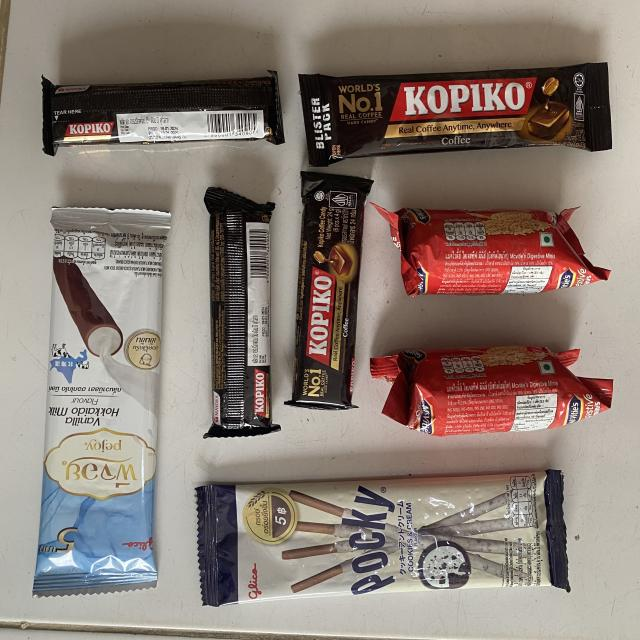plastik: (32, 208, 171, 595), (196, 470, 569, 605), (299, 62, 611, 166), (371, 346, 612, 436), (374, 205, 610, 295), (285, 171, 372, 410), (42, 71, 284, 155), (204, 188, 280, 438)
